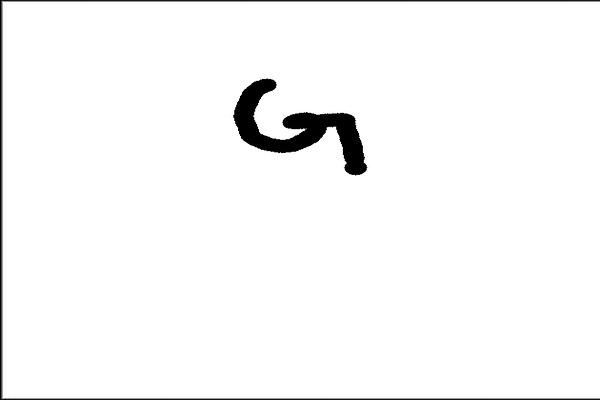G: (228, 70, 373, 183)
